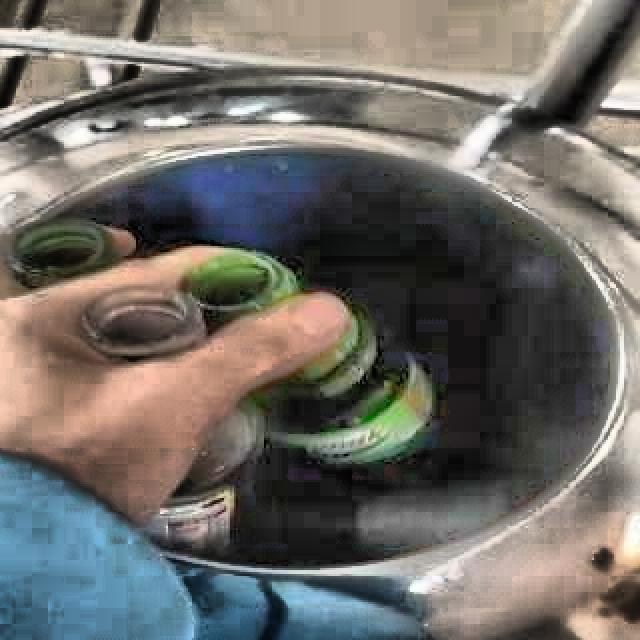glass: (147, 316, 435, 557), (80, 251, 299, 361), (3, 219, 133, 289)
